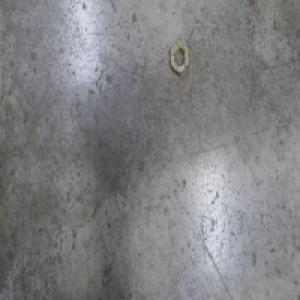Nut: (169, 34, 189, 74)
